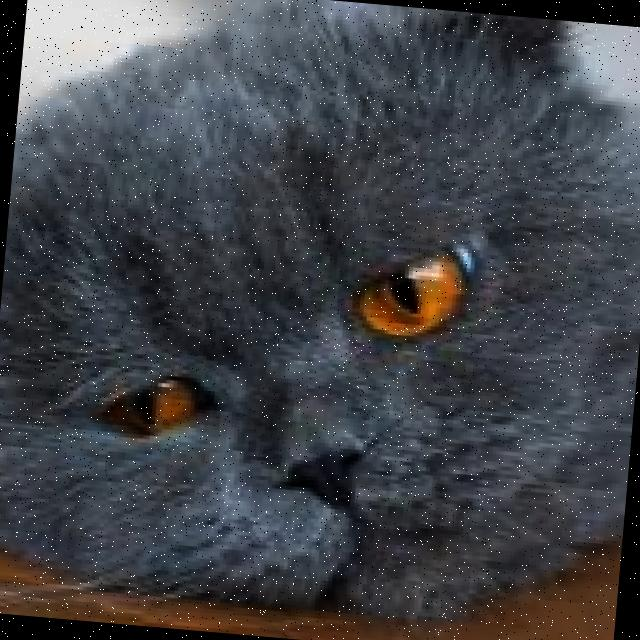Sad: (0, 178, 577, 620)
